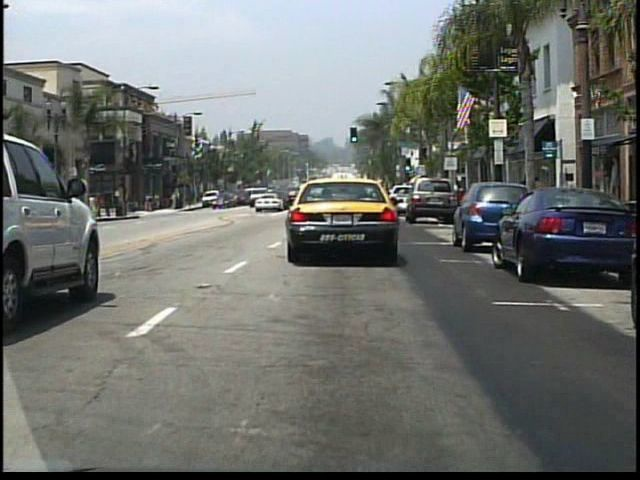person: (222, 187, 232, 211)
